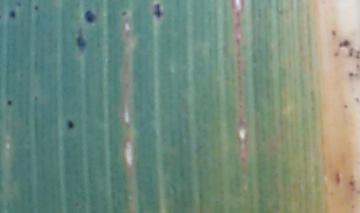tarspot: (81, 7, 96, 24), (151, 1, 163, 20), (75, 33, 87, 49), (8, 9, 16, 20), (339, 39, 350, 47), (67, 120, 76, 129), (5, 99, 14, 107), (347, 179, 356, 187), (33, 2, 40, 12), (330, 27, 337, 37), (335, 173, 342, 183), (347, 70, 355, 78), (33, 94, 40, 103), (15, 1, 23, 8), (355, 49, 360, 59), (347, 50, 354, 57), (120, 10, 128, 16), (342, 103, 349, 109), (334, 52, 340, 57), (354, 97, 359, 102), (354, 62, 360, 66)
